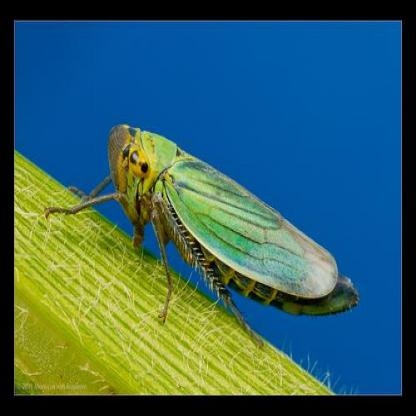Green-Leafhopper: (54, 122, 361, 323)
